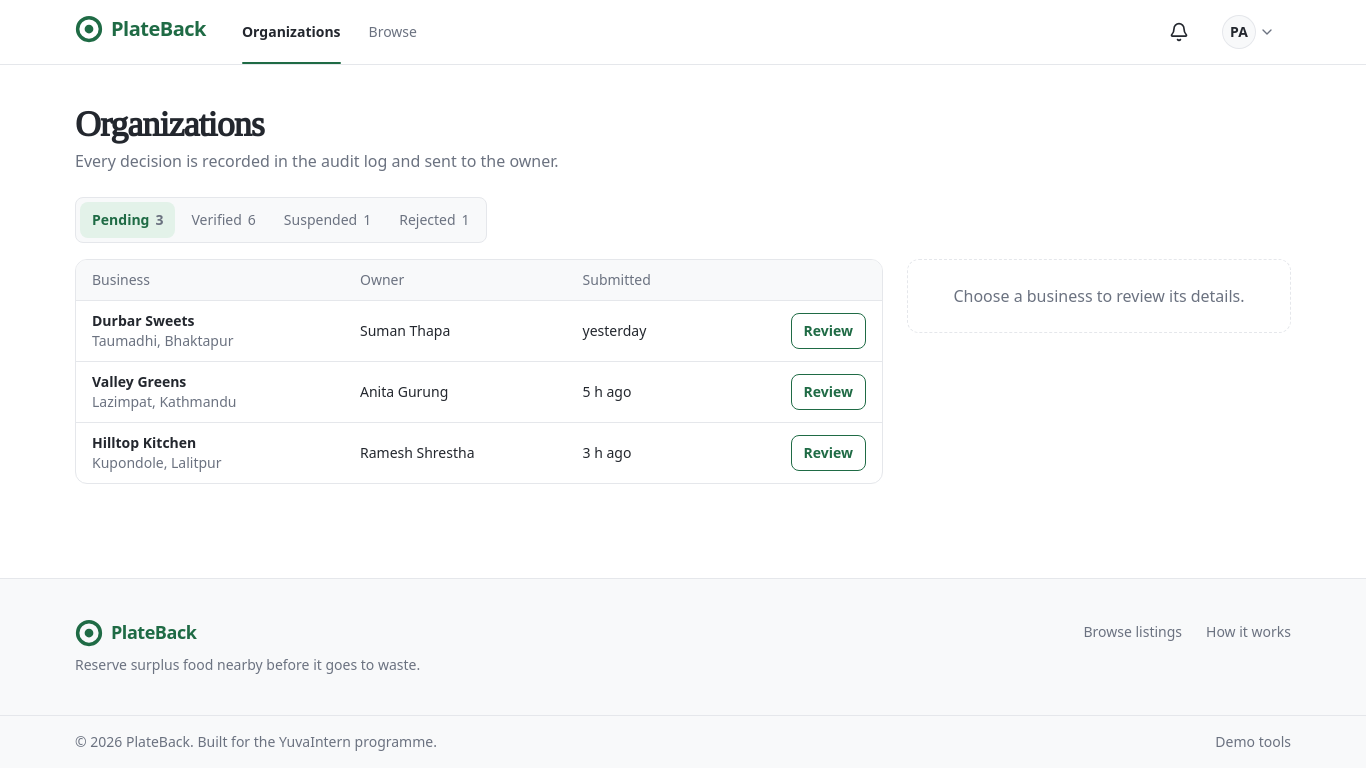
AdminOrganizationsPage › requires a reason to reject
Expected: the heading "Organizations" is shown, [75,105,264,145]
Click the button with aria-label "Review Durbar Sweets".
click(828, 331)  # box [790,313,866,349]
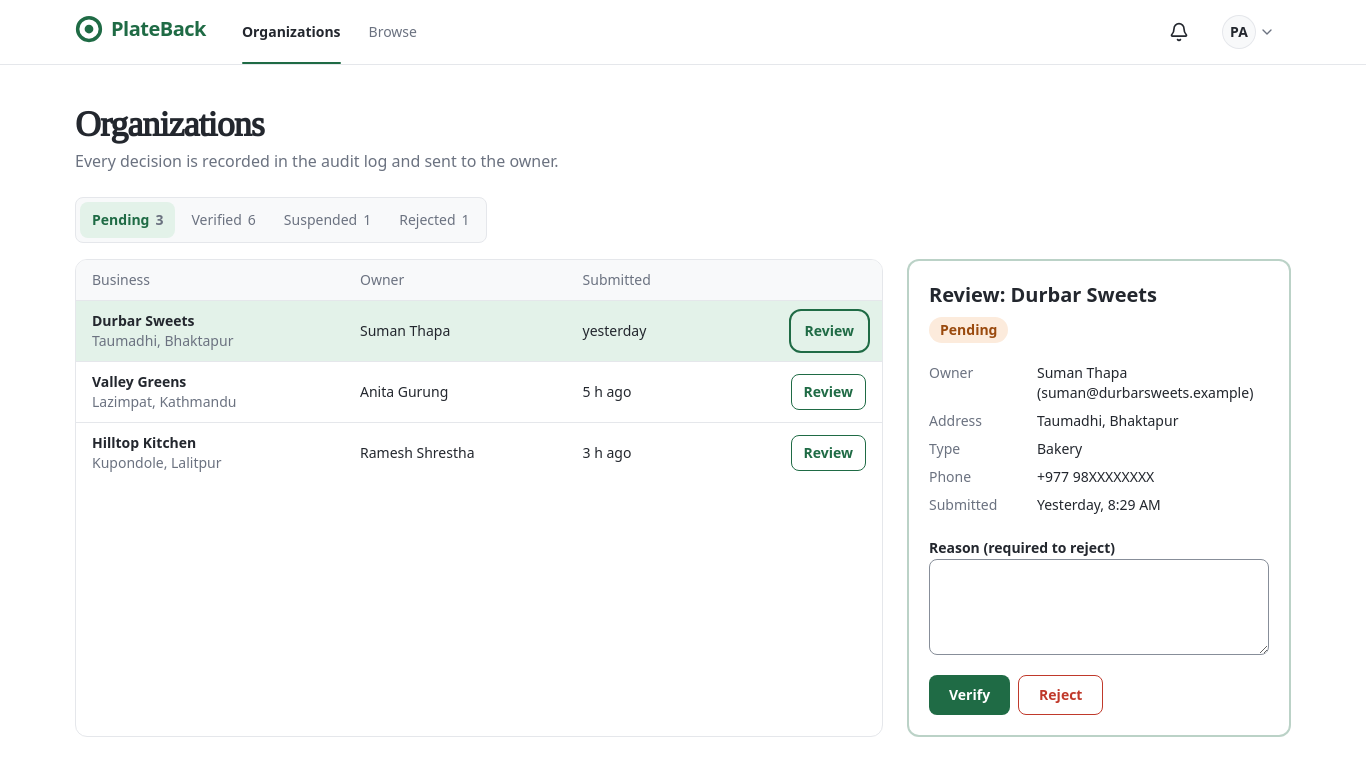
Click the button "Reject".
click(1061, 695)  # box [1018,675,1103,715]
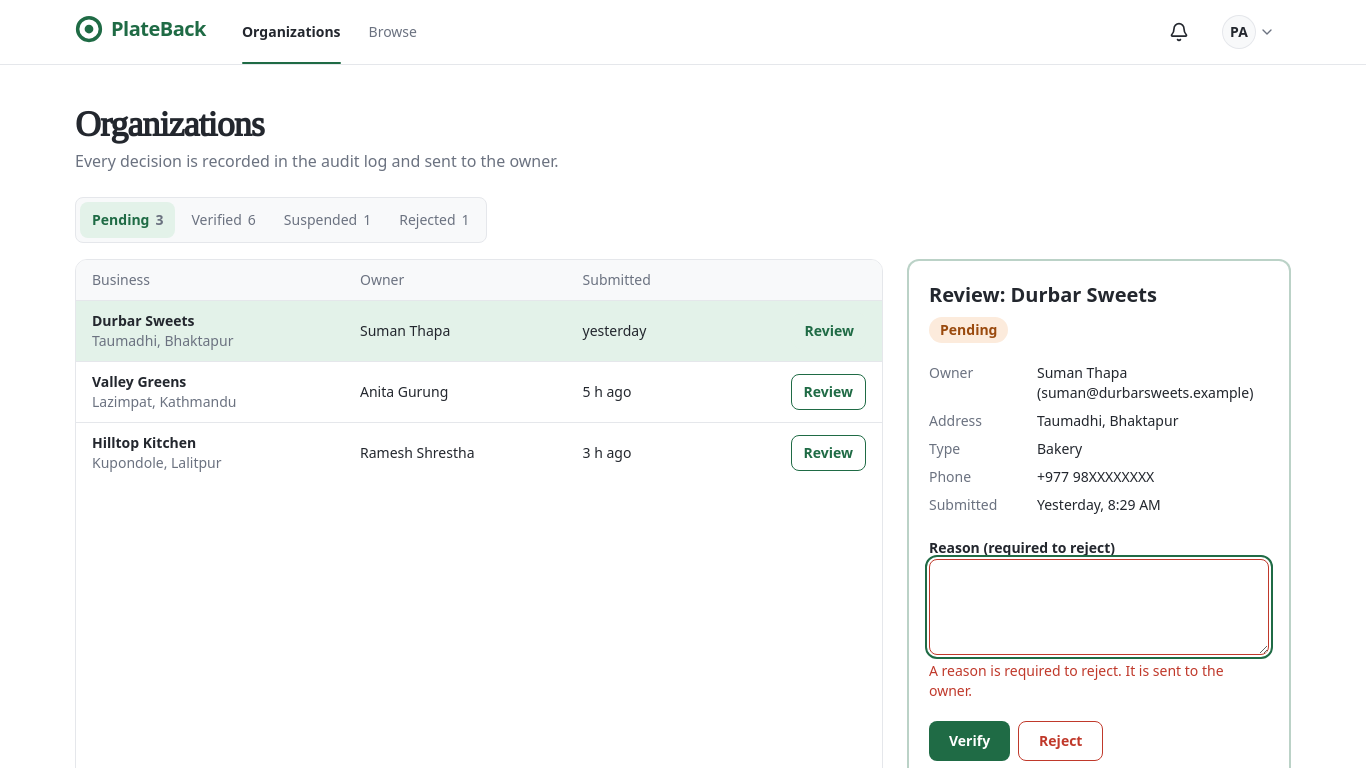
Type "Address could not be confirmed." into the text box labelled "Reason (required to reject)".
click(1099, 607); type("Address could not be confirmed.")  # box [929,559,1269,655]
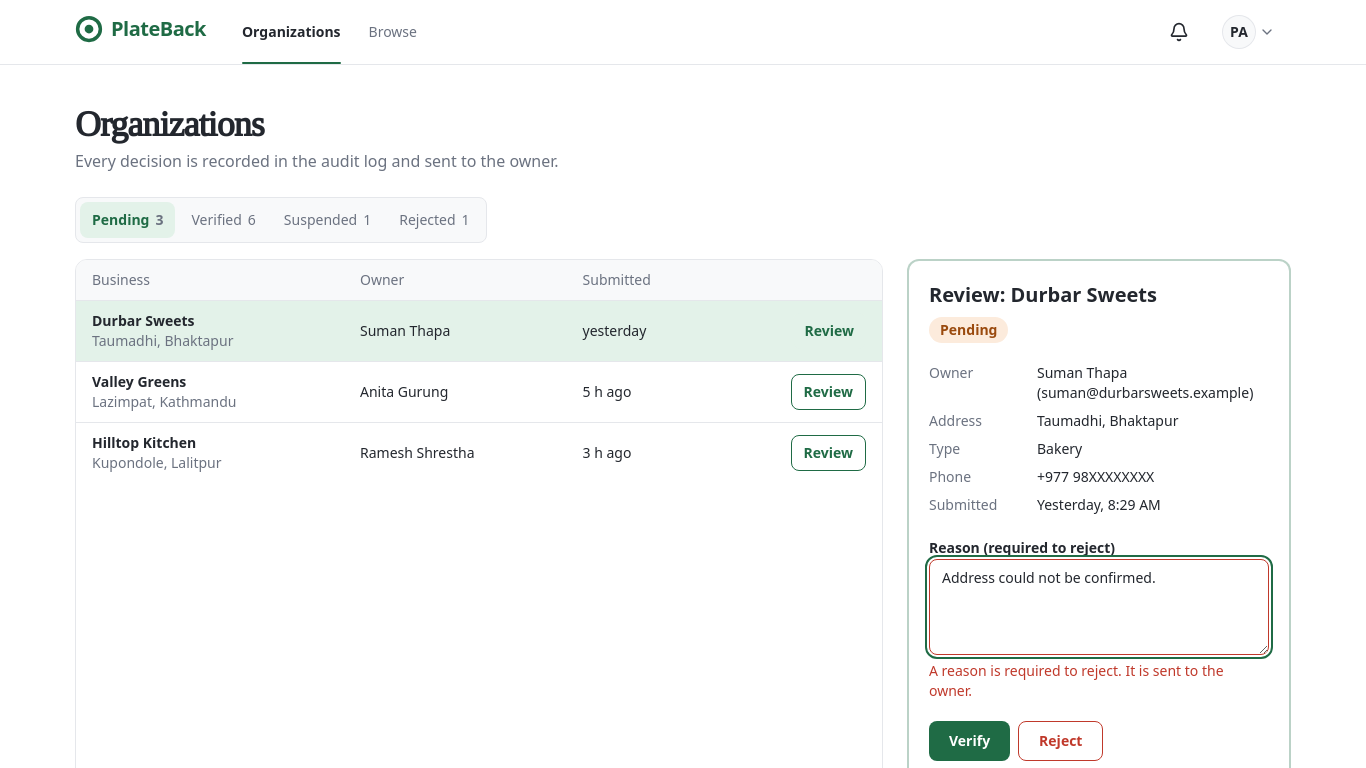
Click the button "Reject".
click(1061, 741)  # box [1018,721,1103,761]
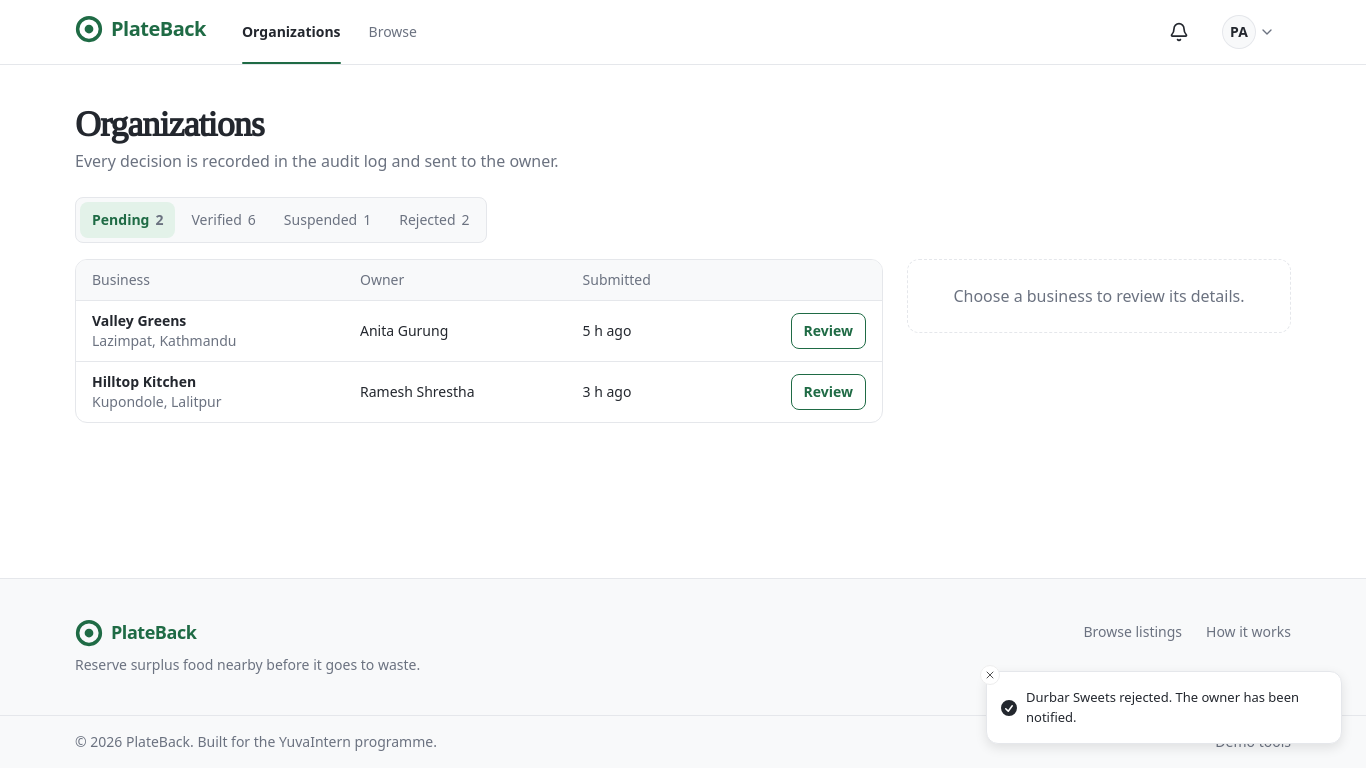
Result: the text "Durbar Sweets rejected. The owner has been notified." is shown at [1026,688,1325,727]
